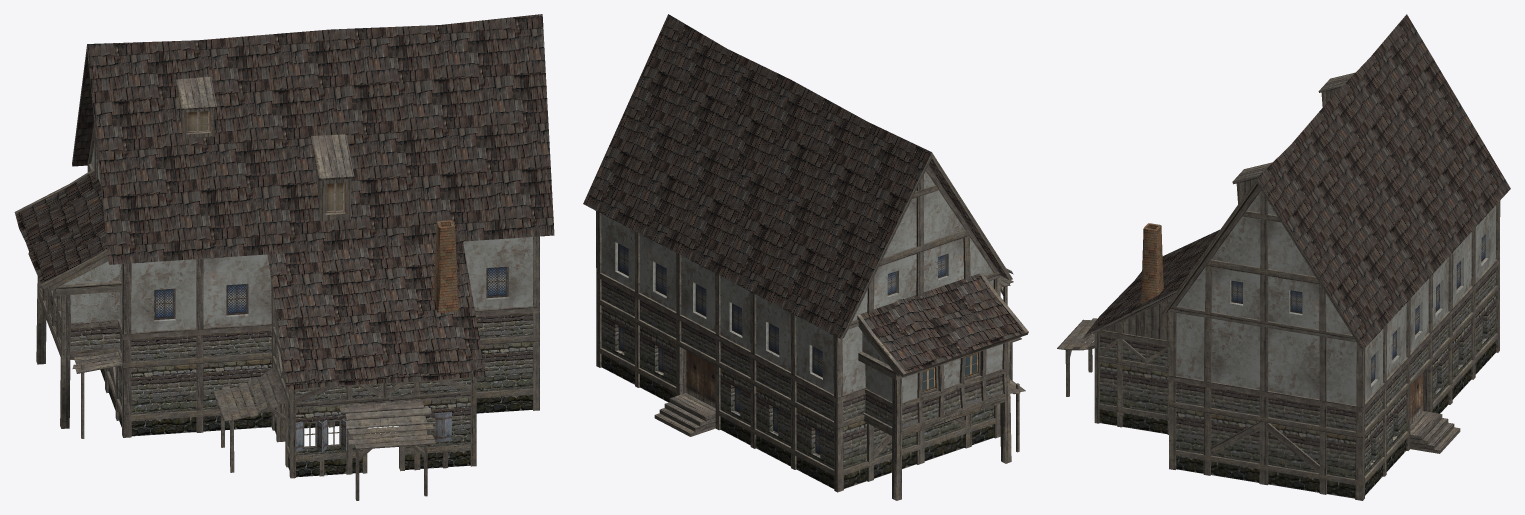
Rendered from BlacksmithHouse.FBX.
The picture shows the model from 3 angles, left to right: view 1: azimuth 30°, elevation 25°; view 2: azimuth 150°, elevation 25°; view 3: azimuth 270°, elevation 25°; orthographic projection. The views are drawn at different scales.
Visible parts, largest first — view 1: BlacksmithHouse; view 2: BlacksmithHouse; view 3: BlacksmithHouse.
Boxes of the visible parts, <box> form: BlacksmithHouse: <box>14,14,554,500</box>; BlacksmithHouse: <box>583,14,1028,500</box>; BlacksmithHouse: <box>1057,14,1510,500</box>.
Bounding box in the file's own units: 138 × 125 × 96.22.
